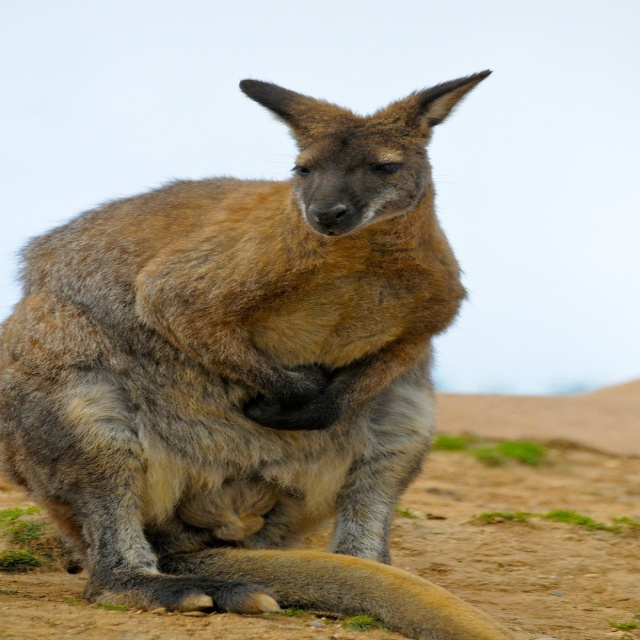Kangaroo: (0, 63, 534, 640)
